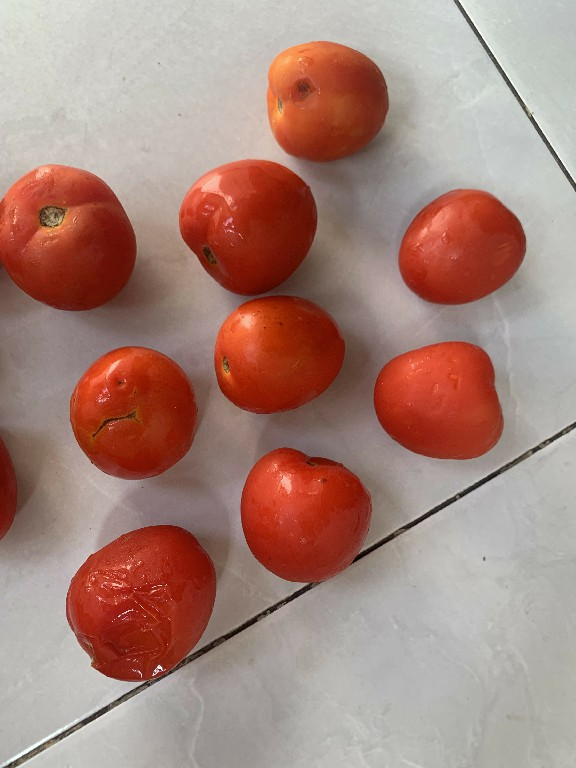NG: (60, 516, 217, 692), (61, 340, 200, 495), (264, 38, 391, 159)
OK: (230, 440, 379, 592), (1, 150, 137, 316), (172, 157, 322, 293), (394, 176, 531, 313), (207, 293, 351, 420), (374, 340, 509, 461)
